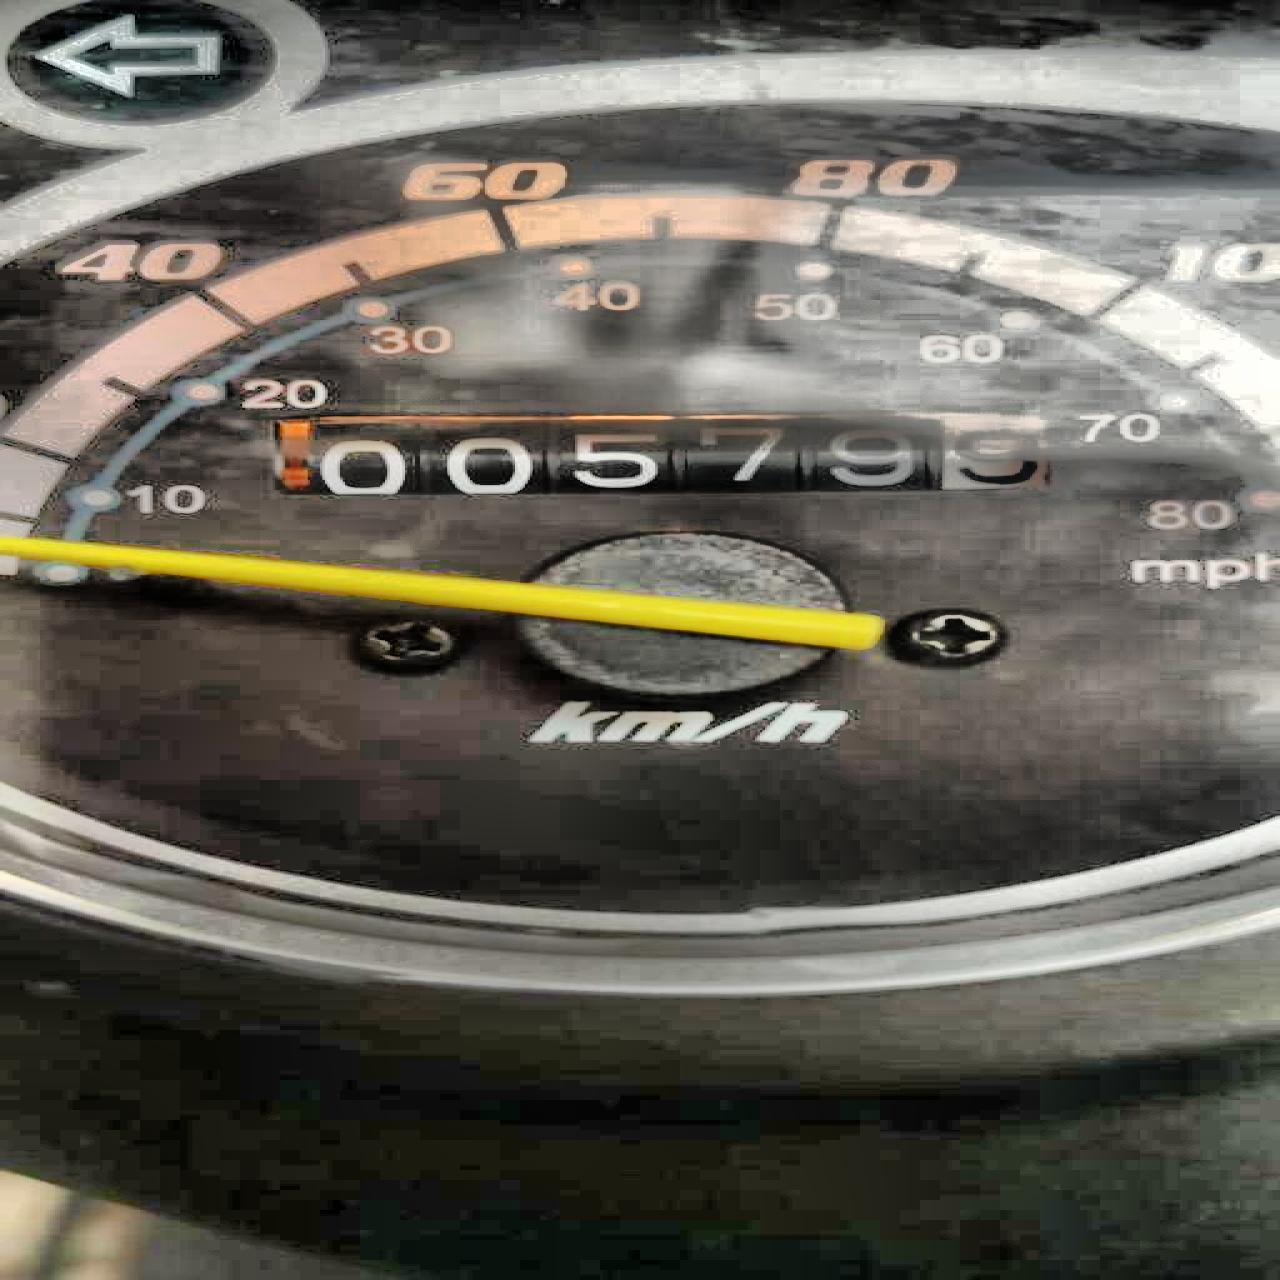0: (437, 429, 538, 495), (312, 434, 410, 495)
5: (557, 425, 665, 490)
7: (686, 422, 792, 483)
9: (940, 420, 1042, 491), (821, 425, 918, 486)
odometer: (258, 409, 1068, 501)
